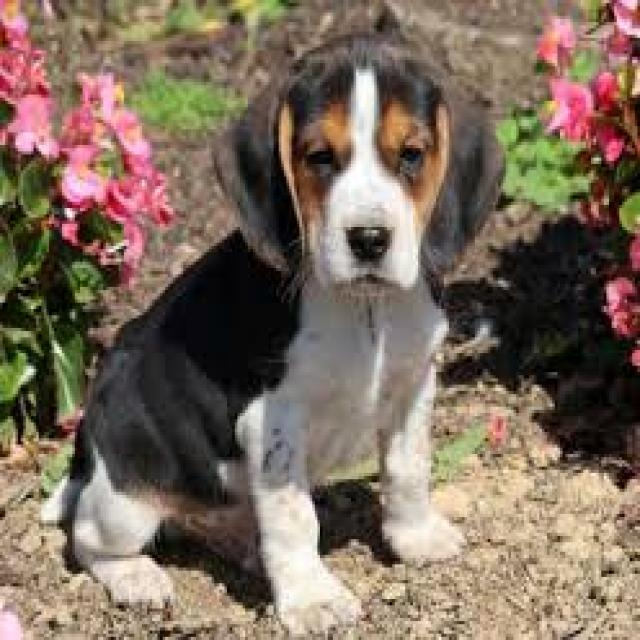Dog: (38, 31, 509, 637)
